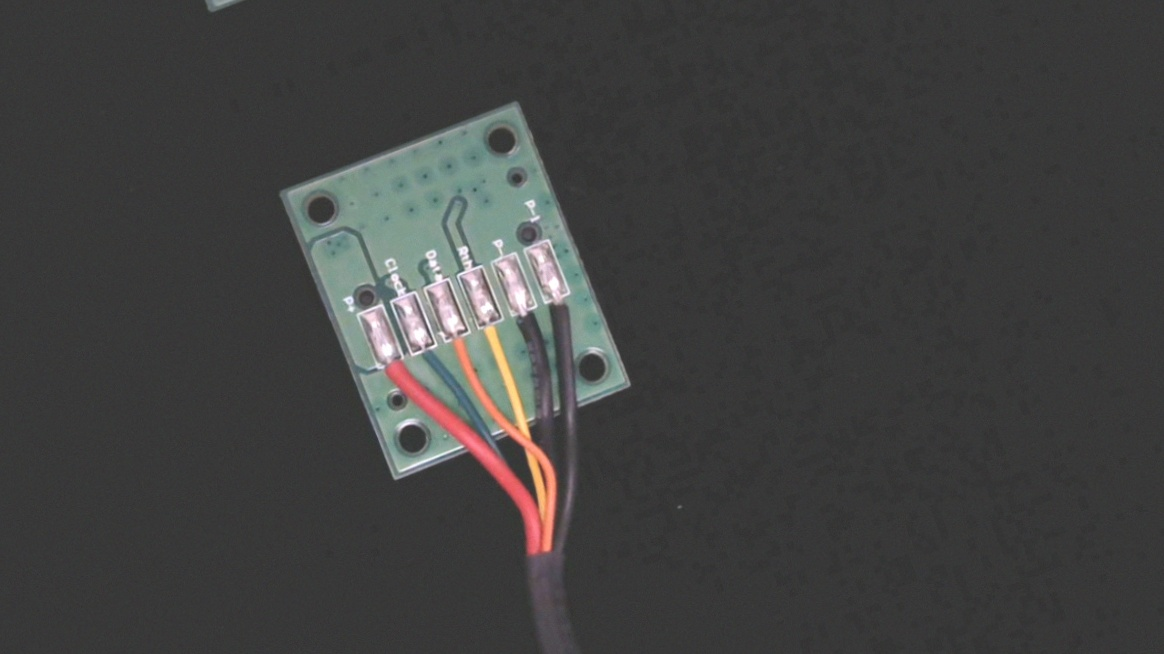Black: (504, 294, 556, 361)
Black1: (540, 281, 586, 340)
Green: (406, 329, 455, 390)
Orange: (437, 317, 486, 381)
Red: (372, 347, 422, 409)
Yellow: (471, 307, 519, 372)
